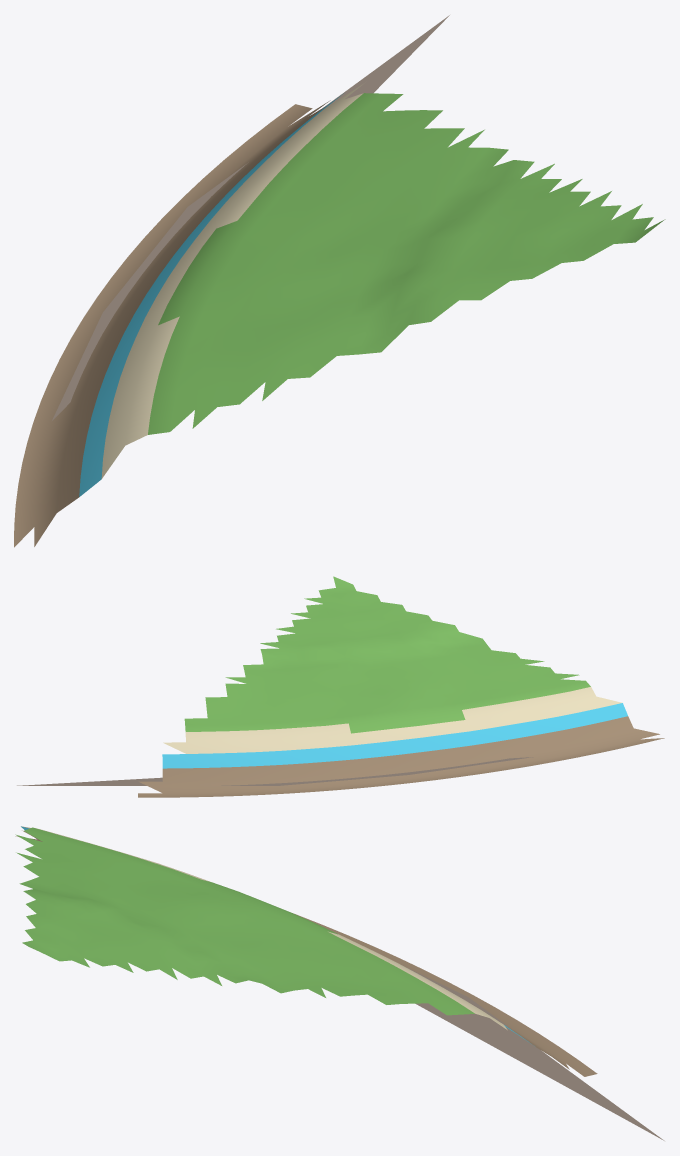
Rendered from flagship_terrain_00.glb.
The picture shows the model from 3 angles, top to bottom: view 1: azimuth 30°, elevation 25°; view 2: azimuth 150°, elevation 25°; view 3: azimuth 270°, elevation 25°; orthographic projection. The views are drawn at different scales.
Parts seen in each view (by area): view 1: Terrain_00; view 2: Terrain_00; view 3: Terrain_00.
Part boxes in pixels (left/top/right/bottom): Terrain_00: left=14, top=15, right=665, bottom=547; Terrain_00: left=17, top=576, right=664, bottom=797; Terrain_00: left=15, top=826, right=664, bottom=1140.
Size of the model in its own units: 59.53 by 10.83 by 51.72.
